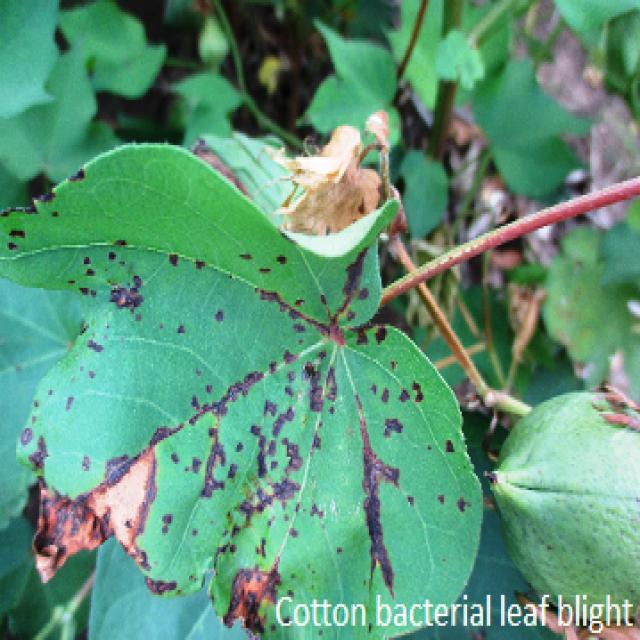Bacterial Blight: (109, 278, 393, 616)
